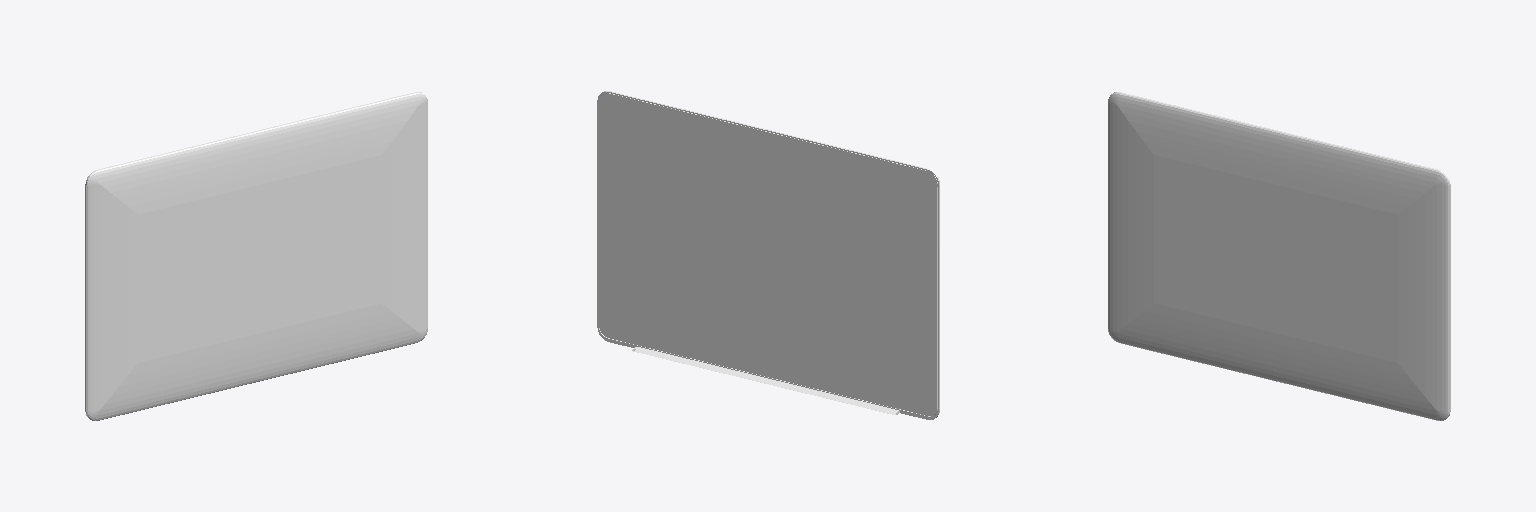
File: monitor.obj
3 renders of one model, left to right at view 1: azimuth 30°, elevation 25°; view 2: azimuth 150°, elevation 25°; view 3: azimuth 330°, elevation 25°, orthographic.
Bounding box in the file's own units: 0.2805 × 0.1965 × 0.0115.